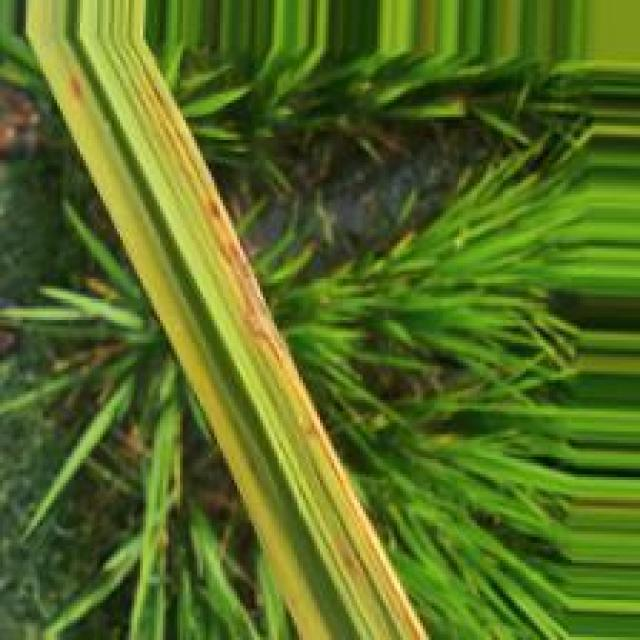Rice Tungro: (214, 239, 287, 374)
